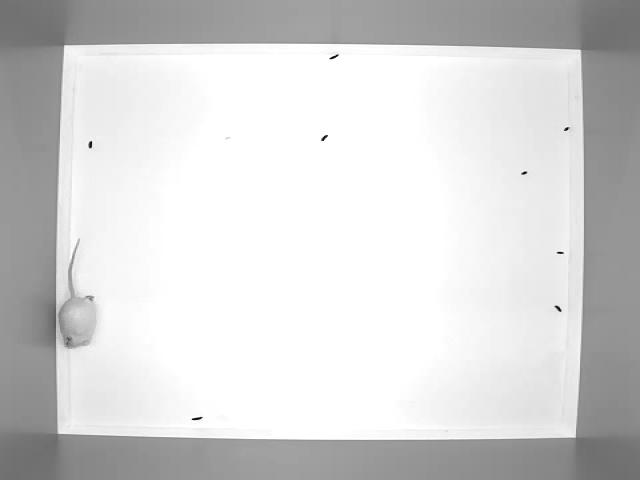Tikus: (59, 240, 98, 350)
